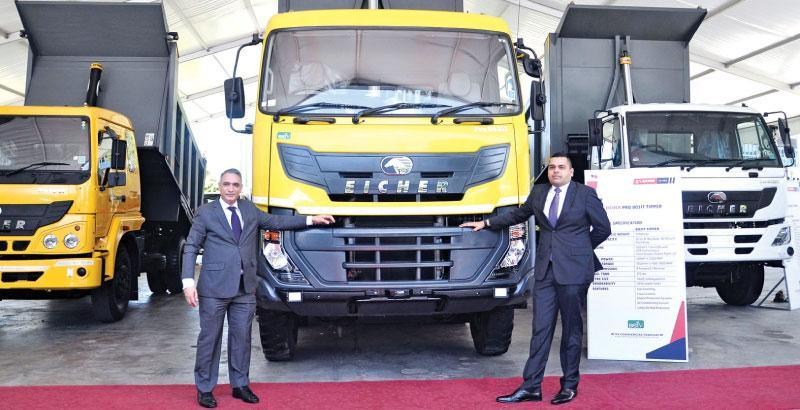truck: (224, 1, 545, 361), (550, 1, 794, 305), (1, 1, 206, 320)
